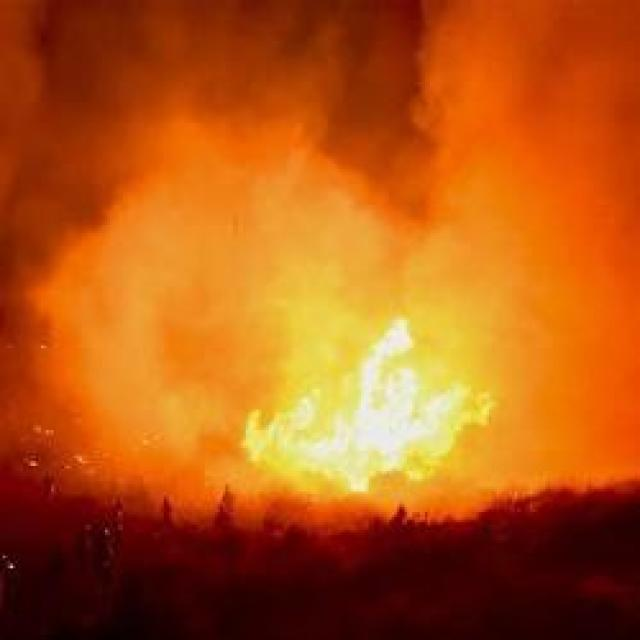fire: (236, 313, 494, 490)
